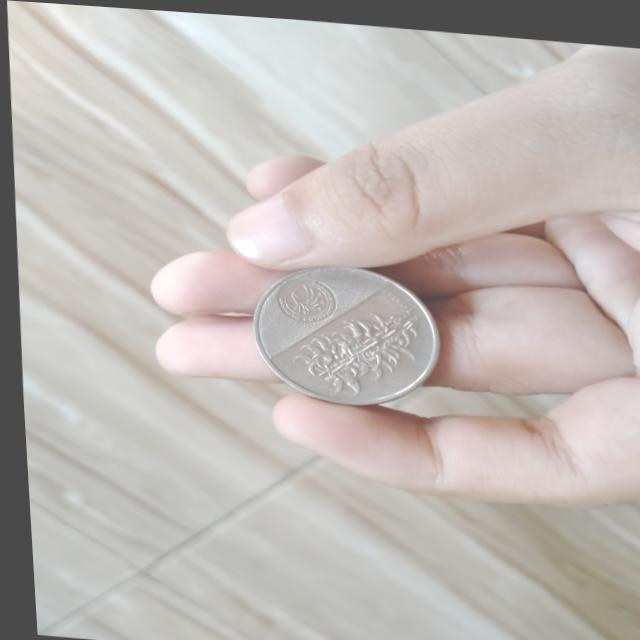5_New_Back: (278, 291, 434, 400)
